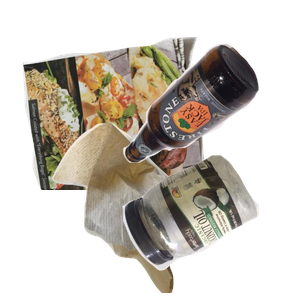glass: (120, 41, 300, 196)
paper: (20, 34, 221, 214)
plastic: (120, 152, 300, 300)
trash: (50, 120, 219, 300)
